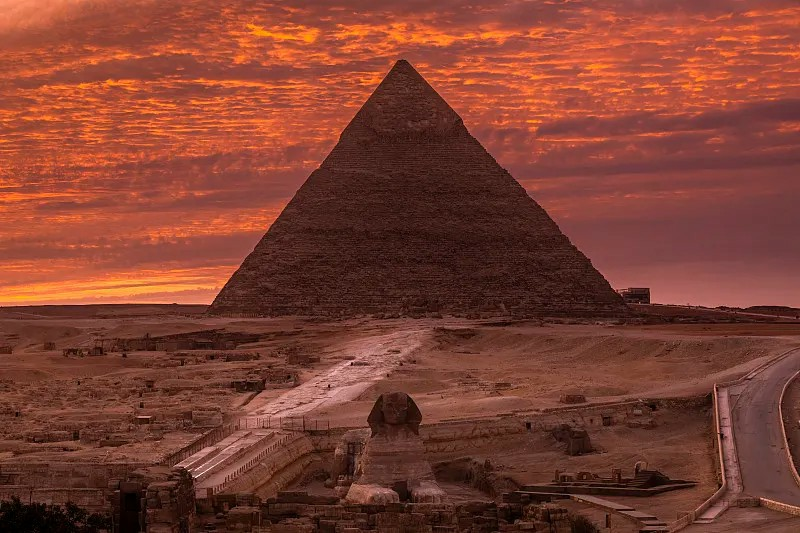Pyramid: (209, 57, 634, 318)
